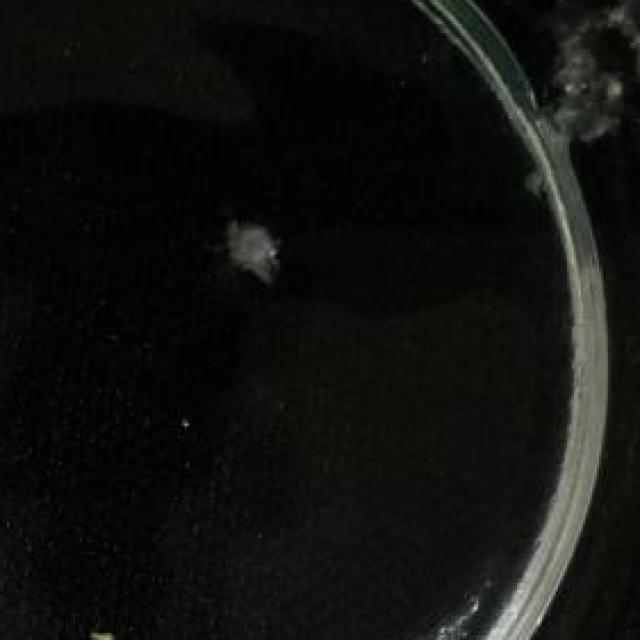Microplastic: (521, 0, 640, 245)
